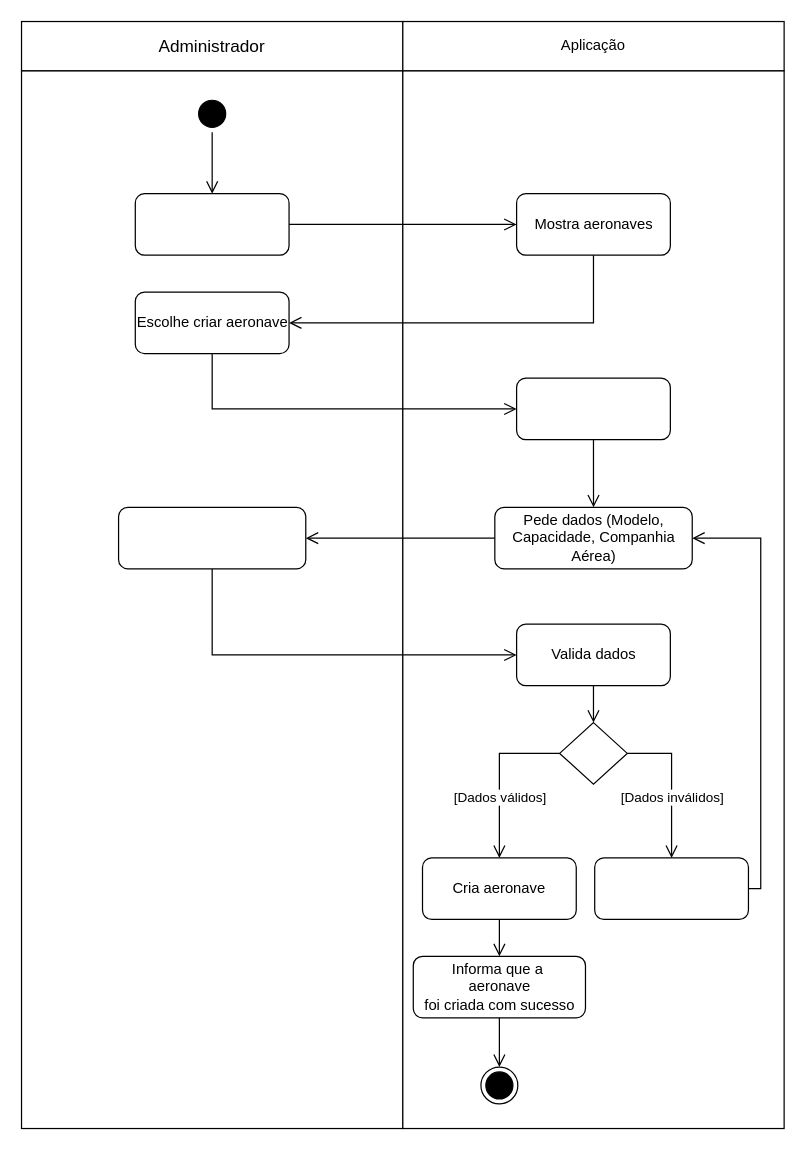
Some shapes in this 806 by 1150 pixel diagram are drawn without their labels. The shapes that lost their labels are listed below. From the top down, each one's box as (x1, y1, x2, y2) in pixels, then its label:
(134, 192, 289, 255): Entra na tela de ver aeronaves
(515, 377, 670, 440): Abre tela de criar aeronave
(117, 506, 306, 569): Insere dados (Modelo, Capacidade, Companhia Aérea)
(593, 857, 748, 919): Informa que os dados são inválidos
